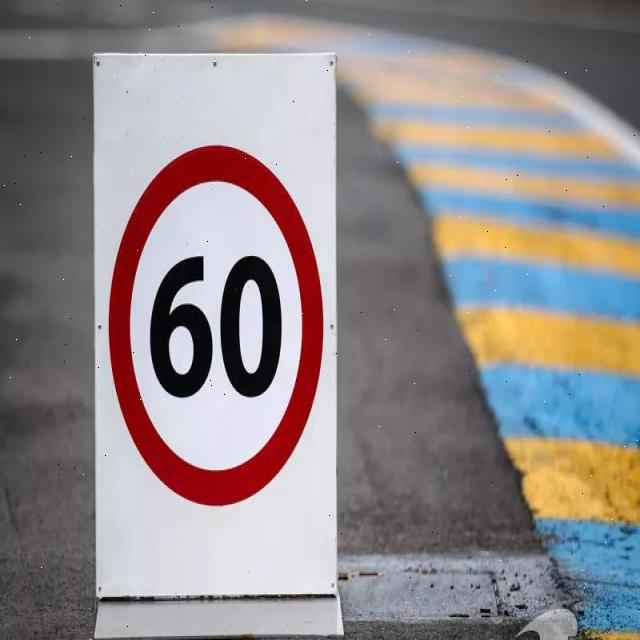speed limit 60: (107, 144, 323, 508)
